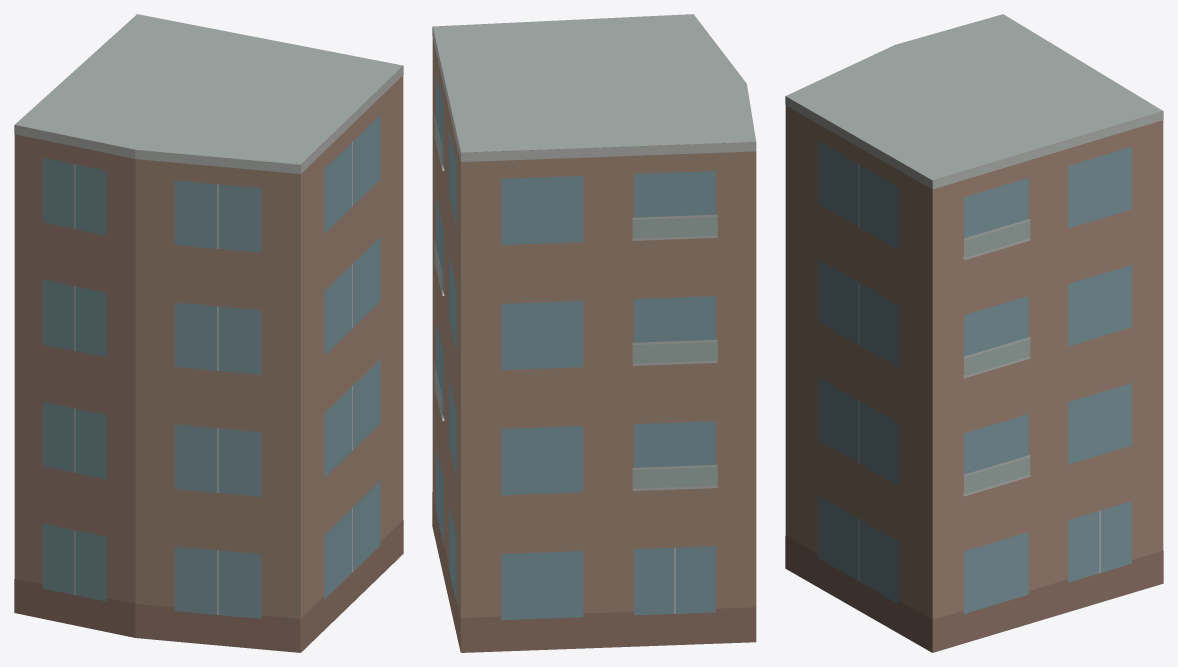
Rendered from survey-upis-32504035.glb.
3 renders of one model, left to right at view 1: azimuth 30°, elevation 25°; view 2: azimuth 150°, elevation 25°; view 3: azimuth 270°, elevation 25°, orthographic. The views are drawn at different scales.
Visible parts, largest first — view 1: survey-upis-32504035.tmp; view 2: survey-upis-32504035.tmp; view 3: survey-upis-32504035.tmp.
Boxes of the visible parts, box(x1,y1,x2,y2) form: survey-upis-32504035.tmp: box(14, 14, 403, 652); survey-upis-32504035.tmp: box(432, 14, 756, 652); survey-upis-32504035.tmp: box(785, 14, 1163, 652).
Bounding box in the file's own units: 9.68 × 12.8 × 9.29.
